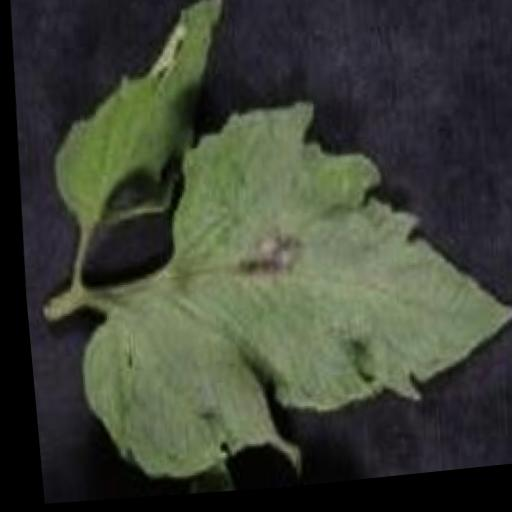Late Blight: (4, 0, 512, 512)
